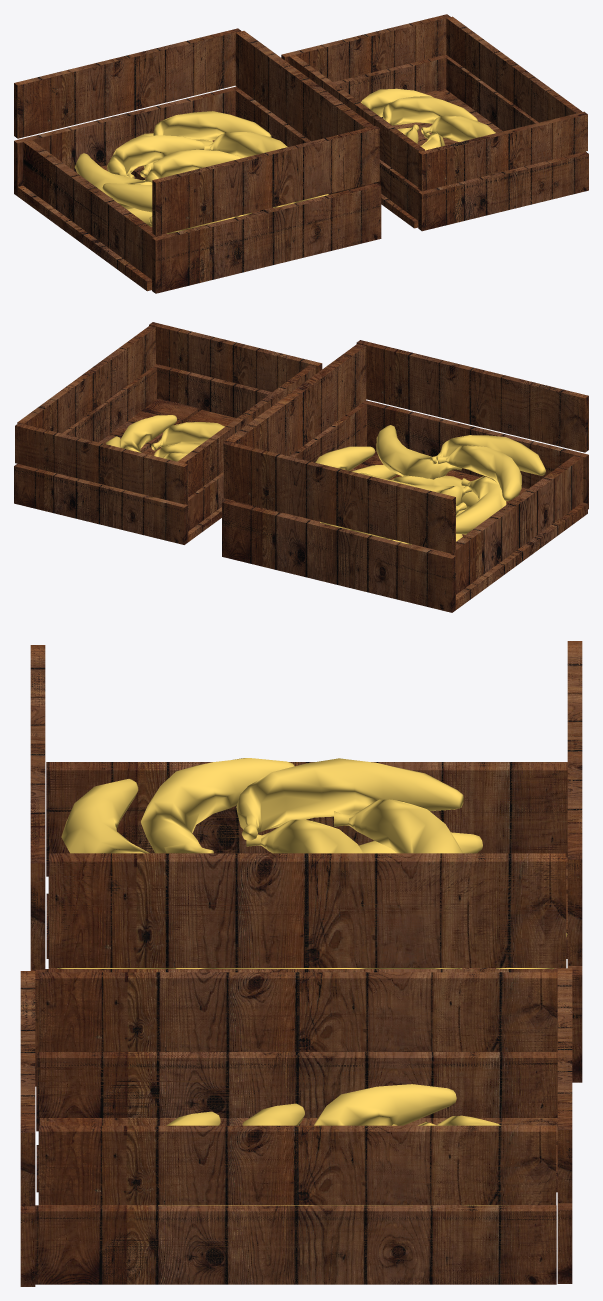
Rendered from Banana.fbx.
3 renders of one model, top to bottom at view 1: azimuth 30°, elevation 25°; view 2: azimuth 150°, elevation 25°; view 3: azimuth 270°, elevation 25°, orthographic. The views are drawn at different scales.
Visible parts, largest first — view 1: Group1, Group2; view 2: Group1, Group2; view 3: Group2, Group1.
Part boxes in pixels (x1,y1,x2,y2): Group1: [14, 28, 381, 293]; Group2: [281, 14, 588, 231]; Group1: [222, 340, 588, 612]; Group2: [14, 322, 322, 544]; Group2: [20, 968, 572, 1286]; Group1: [30, 641, 582, 1086].
Size of the model in its own units: 51.49 by 12.55 by 28.8.
